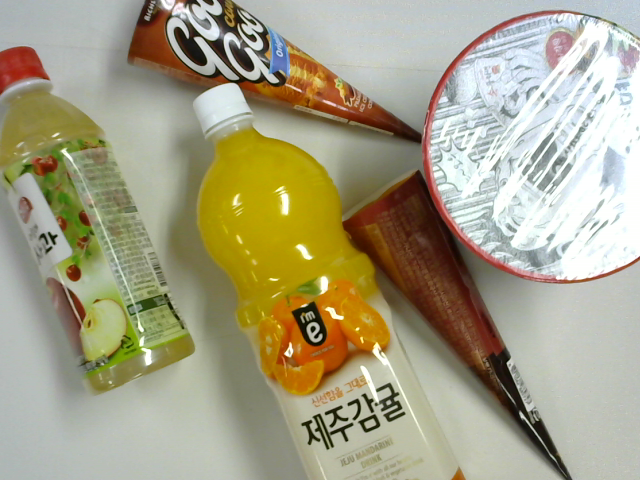GooGoo_Cone_CVS: (126, 1, 424, 145)
Hejangpul: (421, 10, 640, 281)
Jeju_Tangerine_1.5L: (190, 80, 466, 480)
Morning_Apple_500ml: (1, 44, 197, 396)
World_Cone_Choco: (341, 167, 574, 480)
